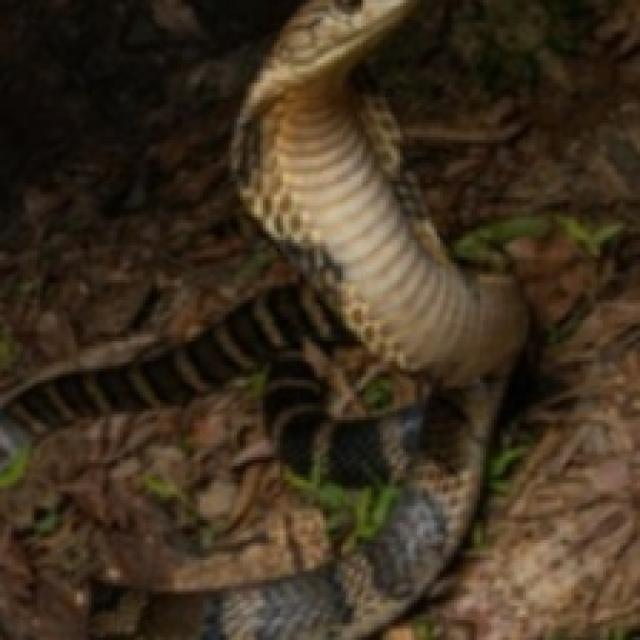king cobra: (0, 0, 523, 637)
